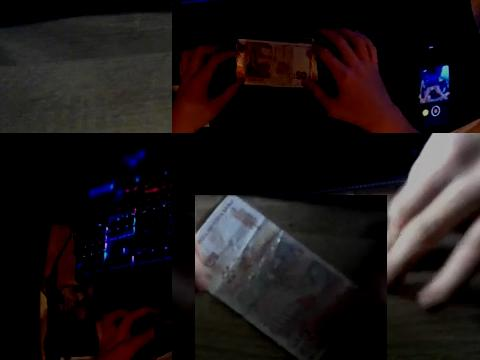50leva: (237, 39, 312, 90)
5leva: (195, 195, 387, 360)
